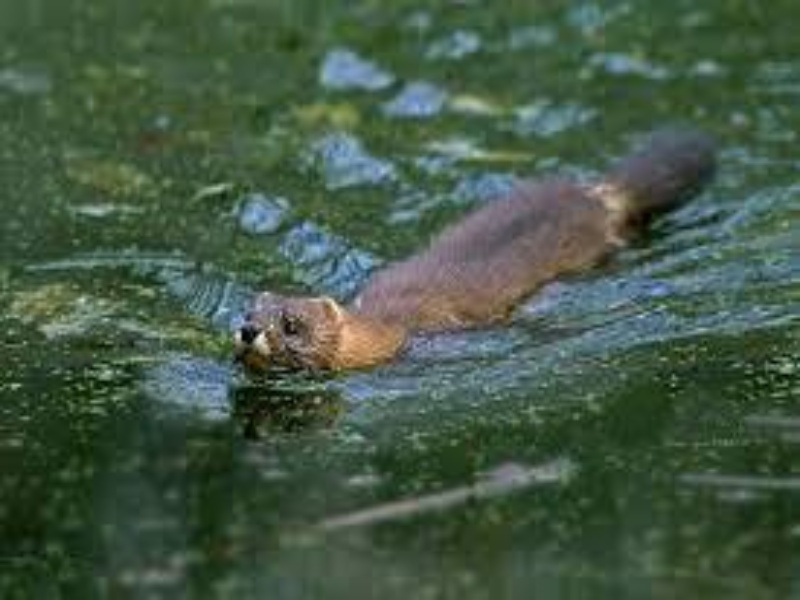minkish: (233, 123, 722, 382)
